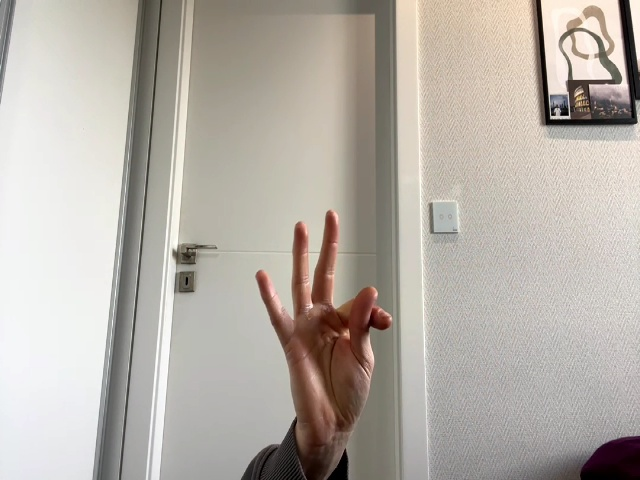T: (256, 210, 392, 439)
